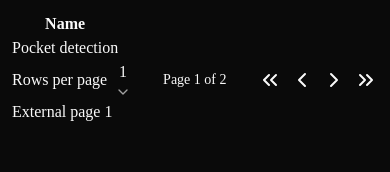
Test: drives caller-owned pagination state
The width and height of the screenshot is (390, 172).
Expected: the text "Page 1 of 2" is shown, [163,70,226,90]
Step 1. Click the 3rd button named "Go to next page" → [334, 80], box [322,68,346,92]
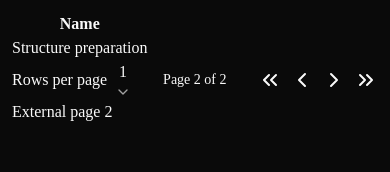
Expected: the text "Page 2 of 2" is shown, [163,70,226,90]
Expected: the text "External page 2" is shown, [12,103,112,120]
Expected: the cell "Structure preparation" is shown, [12,36,148,60]
